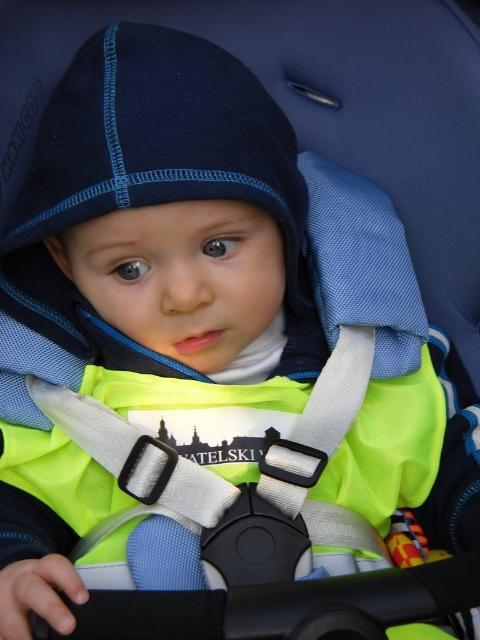SafeDriving: (101, 246, 164, 287), (192, 224, 250, 266)
Seatbelt: (27, 378, 239, 530)
